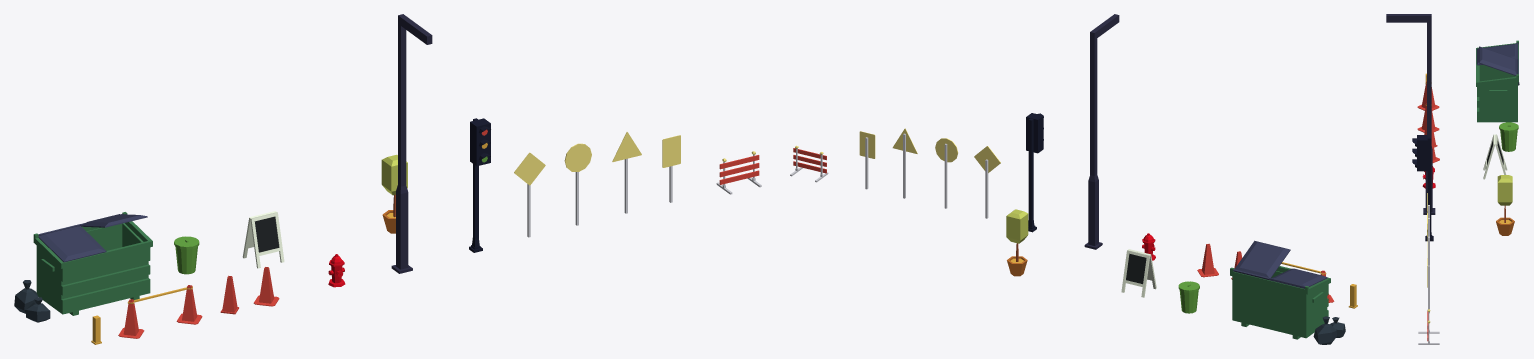
File: Props.fbx
3 renders of one model, left to right at view 1: azimuth 30°, elevation 25°; view 2: azimuth 150°, elevation 25°; view 3: azimuth 270°, elevation 25°, orthographic. The views are drawn at different scales.
Parts seen in each view (by area): view 1: Trash_Can_BIG, Street_Lamp, Traffic_Light, Board, Cones_with_Bar, Cylinder, Road)Closs_Sign, Traffic_Sing_C, Trash_Can_Small, Traffic_Sing_R, Traffic_Sing_S, Traffic_Sing_T; view 2: Trash_Can_BIG, Street_Lamp, Traffic_Light, Board, Cylinder, Road)Closs_Sign, Traffic_Sing_C, Traffic_Sing_R, Trash_Can_Small, Traffic_Sing_S, Traffic_Sing_T, Trash_02; view 3: Trash_Can_BIG, Street_Lamp, Traffic_Light, Cylinder, Trash_Can_Small, Board, Cones_with_Bar, Road)Closs_Sign, Traffic_Sing_S.
Part boxes in pixels (<box>): Trash_Can_BIG: <box>33,212,152,315</box>; Street_Lamp: <box>391,14,432,273</box>; Traffic_Light: <box>469,118,490,252</box>; Board: <box>242,211,284,268</box>; Cones_with_Bar: <box>118,285,202,338</box>; Cylinder: <box>381,154,407,233</box>; Road)Closs_Sign: <box>716,151,761,194</box>; Traffic_Sing_C: <box>564,143,591,225</box>; Trash_Can_Small: <box>174,236,199,274</box>; Traffic_Sing_R: <box>514,152,545,237</box>; Traffic_Sing_S: <box>662,135,680,202</box>; Traffic_Sing_T: <box>612,132,641,213</box>; Trash_Can_BIG: <box>1230,240,1330,339</box>; Street_Lamp: <box>1084,14,1119,249</box>; Traffic_Light: <box>1026,113,1043,232</box>; Board: <box>1121,249,1156,297</box>; Cylinder: <box>1006,209,1028,276</box>; Road)Closs_Sign: <box>790,145,828,182</box>; Traffic_Sing_C: <box>935,138,958,208</box>; Traffic_Sing_R: <box>974,146,1000,218</box>; Trash_Can_Small: <box>1178,281,1199,313</box>; Traffic_Sing_S: <box>859,131,875,189</box>; Traffic_Sing_T: <box>892,128,917,198</box>; Trash_02: <box>1313,316,1336,344</box>; Trash_Can_BIG: <box>1476,40,1518,122</box>; Street_Lamp: <box>1386,14,1435,214</box>; Traffic_Light: <box>1412,135,1433,241</box>; Cylinder: <box>1496,175,1514,235</box>; Trash_Can_Small: <box>1499,122,1518,151</box>; Board: <box>1483,134,1507,179</box>; Cones_with_Bar: <box>1417,81,1439,132</box>; Road)Closs_Sign: <box>1418,309,1439,344</box>; Traffic_Sing_S: <box>1427,258,1429,313</box>.
Size of the model in its own units: 1388 by 500 by 298.
